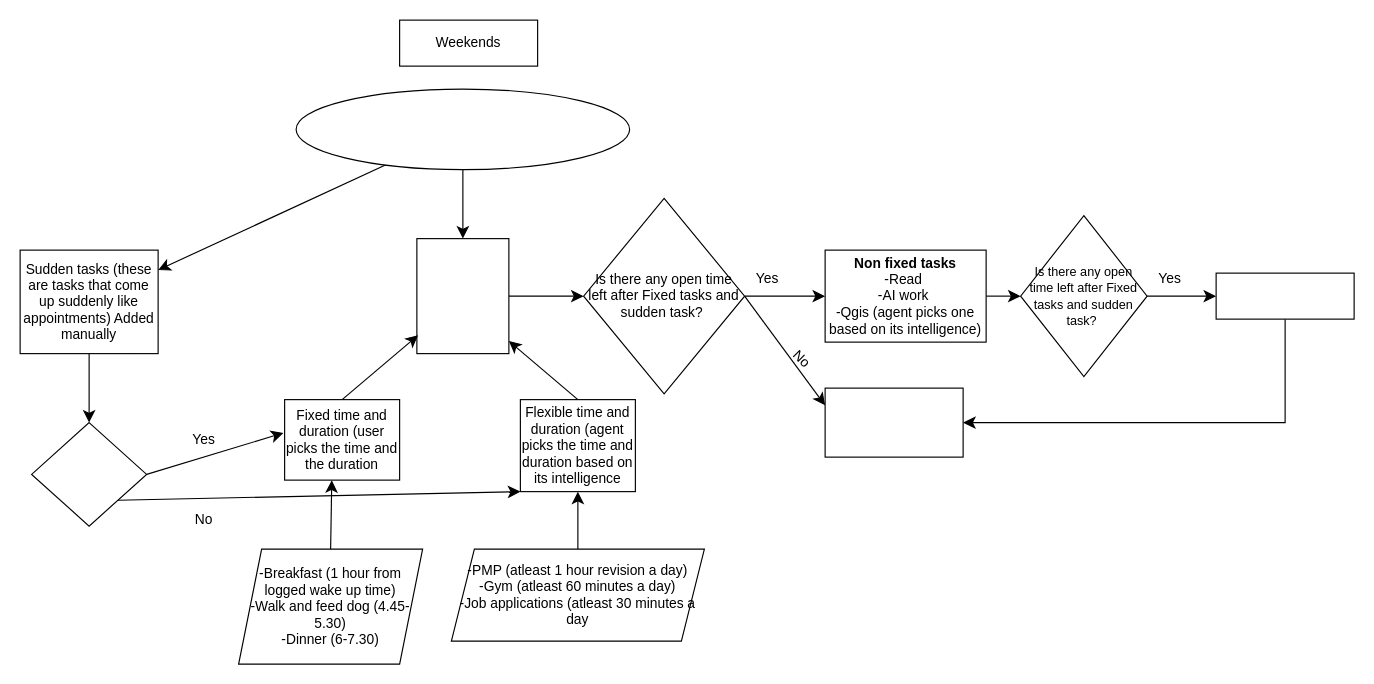
Some shapes in this 1374 by 684 pixel diagram are drawn without their labels. Here are the shapes that lost their labels. From the top down, the box of each, then its label:
(295, 88, 630, 170): Log wake up time (rest of day flows from here)
(416, 237, 509, 354): Fixed tasks (these task have to be done everyday)
(1215, 272, 1354, 319): Name it as 'open time'
(824, 387, 963, 457): Deploy schedule
(30, 421, 147, 526): Is it a fixed time and duration
